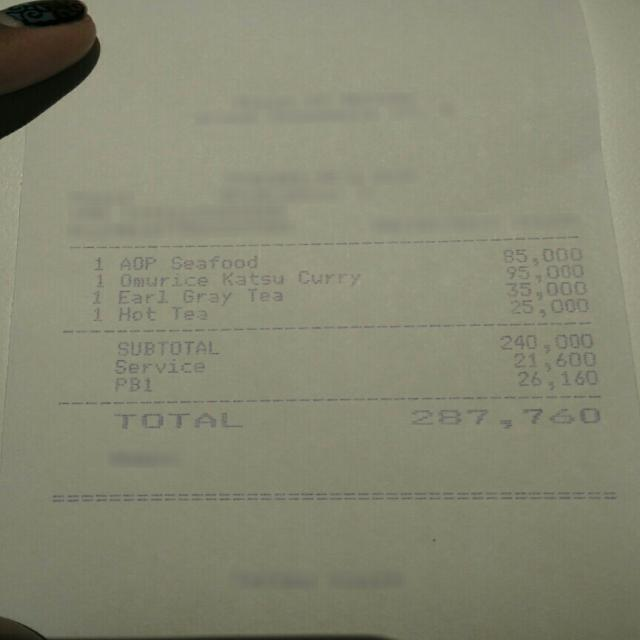kertas: (4, 0, 637, 640)
